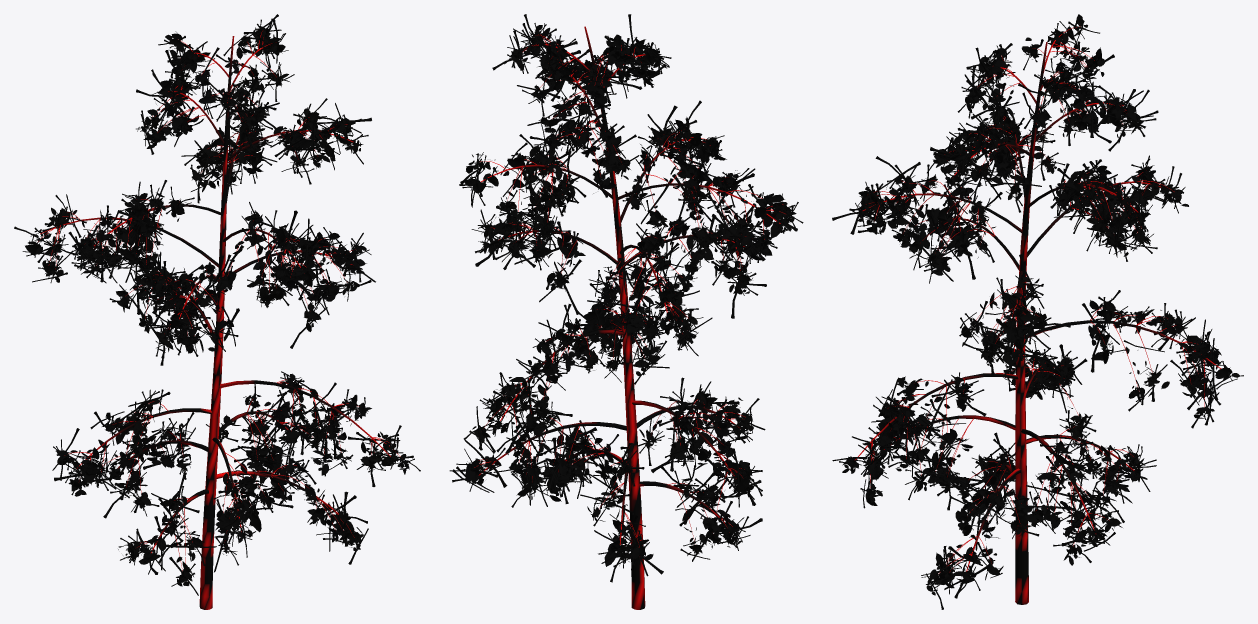
Rendered from SM_BroadleafYoung_00.fbx.
3 views of the same model, side by side, from view 1: azimuth 30°, elevation 25°; view 2: azimuth 150°, elevation 25°; view 3: azimuth 270°, elevation 25° (orthographic). The views are drawn at different scales.
Visible parts, largest first — view 1: SM_BroadleafYoung_00; view 2: SM_BroadleafYoung_00; view 3: SM_BroadleafYoung_00.
Boxes of the visible parts, box(x1,y1,x2,y2) form: SM_BroadleafYoung_00: box(14, 14, 420, 609); SM_BroadleafYoung_00: box(449, 14, 803, 609); SM_BroadleafYoung_00: box(832, 14, 1243, 609).
Size of what is drawn, in the model's own units: 568 by 631 by 988.
